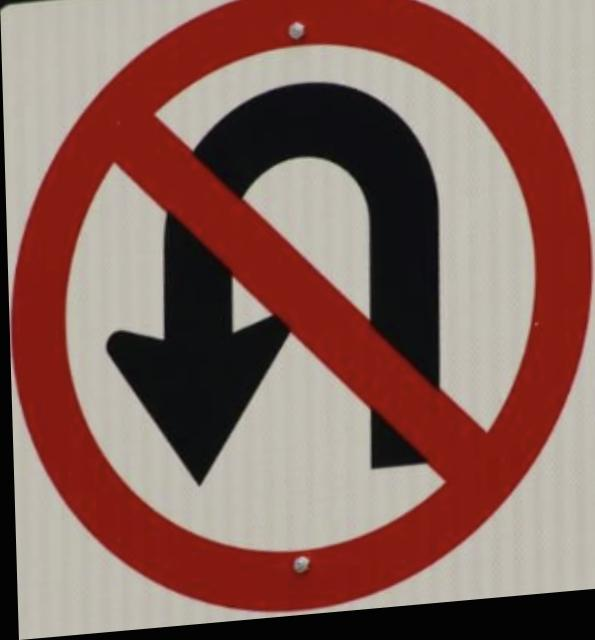not_u_turn_left: (7, 0, 595, 639)
